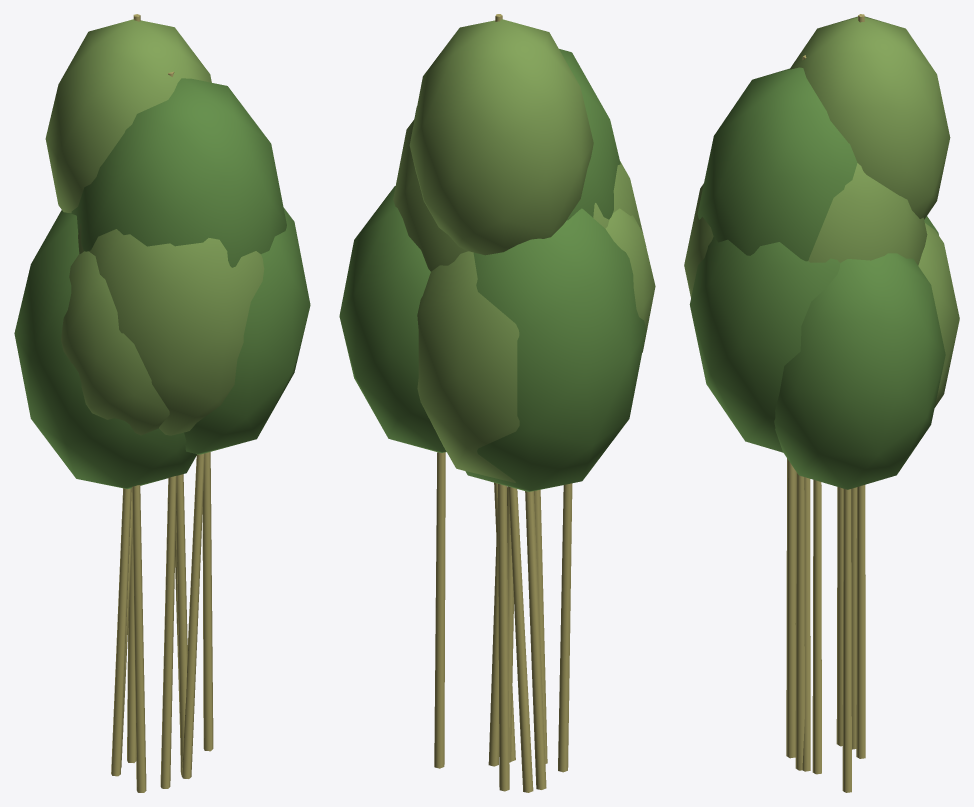
Rendered from bamboo.obj.
3 views of the same model, side by side, from view 1: azimuth 30°, elevation 25°; view 2: azimuth 150°, elevation 25°; view 3: azimuth 270°, elevation 25° (orthographic). The views are drawn at different scales.
Visible parts, largest first — view 1: bamboo_11, bamboo_1, bamboo_15, bamboo_5, bamboo_7, bamboo_9, bamboo_6, bamboo_0, bamboo_8, bamboo_14, bamboo_2, bamboo_10 (+2 smaller); view 2: bamboo_5, bamboo_15, bamboo_13, bamboo_3, bamboo_11, bamboo_17, bamboo_4, bamboo_2, bamboo_12, bamboo_14, bamboo_8, bamboo_9 (+4 smaller); view 3: bamboo_3, bamboo_11, bamboo_5, bamboo_7, bamboo_17, bamboo_13, bamboo_0, bamboo_2, bamboo_4, bamboo_16, bamboo_6, bamboo_10 (+3 smaller).
Boxes of the visible parts, left/top/right/bottom form: bamboo_11: left=71, top=78, right=286, bottom=267; bamboo_1: left=78, top=223, right=264, bottom=435; bamboo_15: left=14, top=210, right=196, bottom=489; bamboo_5: left=45, top=19, right=211, bottom=212; bamboo_7: left=184, top=208, right=310, bottom=454; bamboo_9: left=61, top=251, right=169, bottom=435; bamboo_6: left=181, top=453, right=204, bottom=778; bamboo_0: left=160, top=475, right=176, bottom=788; bamboo_8: left=132, top=485, right=146, bottom=792; bamboo_14: left=111, top=488, right=131, bottom=776; bamboo_2: left=202, top=452, right=213, bottom=751; bamboo_10: left=168, top=71, right=187, bottom=774; bamboo_5: left=409, top=19, right=593, bottom=255; bamboo_15: left=465, top=208, right=646, bottom=491; bamboo_13: left=417, top=251, right=519, bottom=482; bamboo_3: left=339, top=186, right=446, bottom=452; bamboo_11: left=414, top=49, right=620, bottom=220; bamboo_17: left=393, top=119, right=467, bottom=271; bamboo_4: left=495, top=14, right=509, bottom=791; bamboo_2: left=434, top=452, right=445, bottom=768; bamboo_12: left=508, top=487, right=533, bottom=792; bamboo_14: left=525, top=491, right=546, bottom=789; bamboo_8: left=558, top=483, right=572, bottom=772; bamboo_9: left=605, top=208, right=655, bottom=352; bamboo_3: left=774, top=253, right=945, bottom=489; bamboo_11: left=697, top=67, right=857, bottom=261; bamboo_5: left=789, top=16, right=950, bottom=219; bamboo_7: left=689, top=236, right=840, bottom=452; bamboo_17: left=808, top=163, right=927, bottom=265; bamboo_13: left=918, top=223, right=959, bottom=407; bamboo_0: left=786, top=458, right=795, bottom=758; bamboo_2: left=842, top=488, right=851, bottom=792; bamboo_4: left=856, top=14, right=865, bottom=758; bamboo_16: left=812, top=479, right=821, bottom=774; bamboo_6: left=795, top=472, right=804, bottom=770; bamboo_10: left=802, top=55, right=810, bottom=771.
Size of the model in its own units: 1.65 by 4.42 by 1.49.
